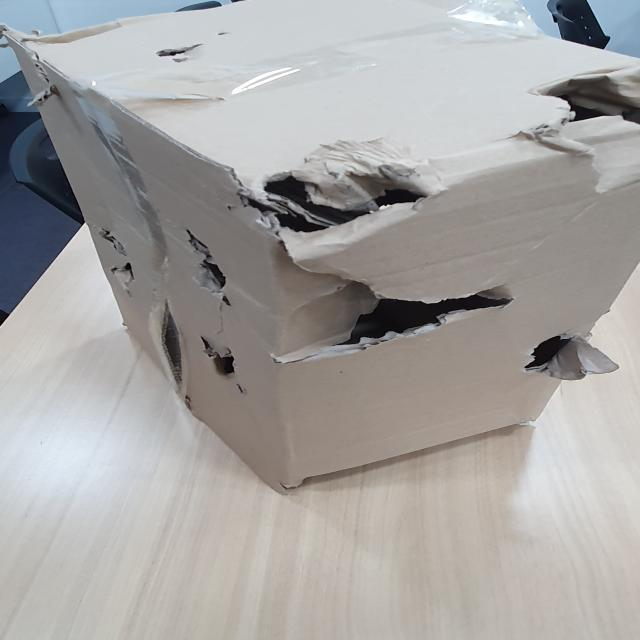hole: (253, 160, 440, 243), (334, 285, 522, 341), (539, 68, 640, 142), (174, 226, 242, 308), (518, 332, 598, 378), (146, 26, 226, 72), (92, 215, 136, 298), (189, 339, 256, 390)
